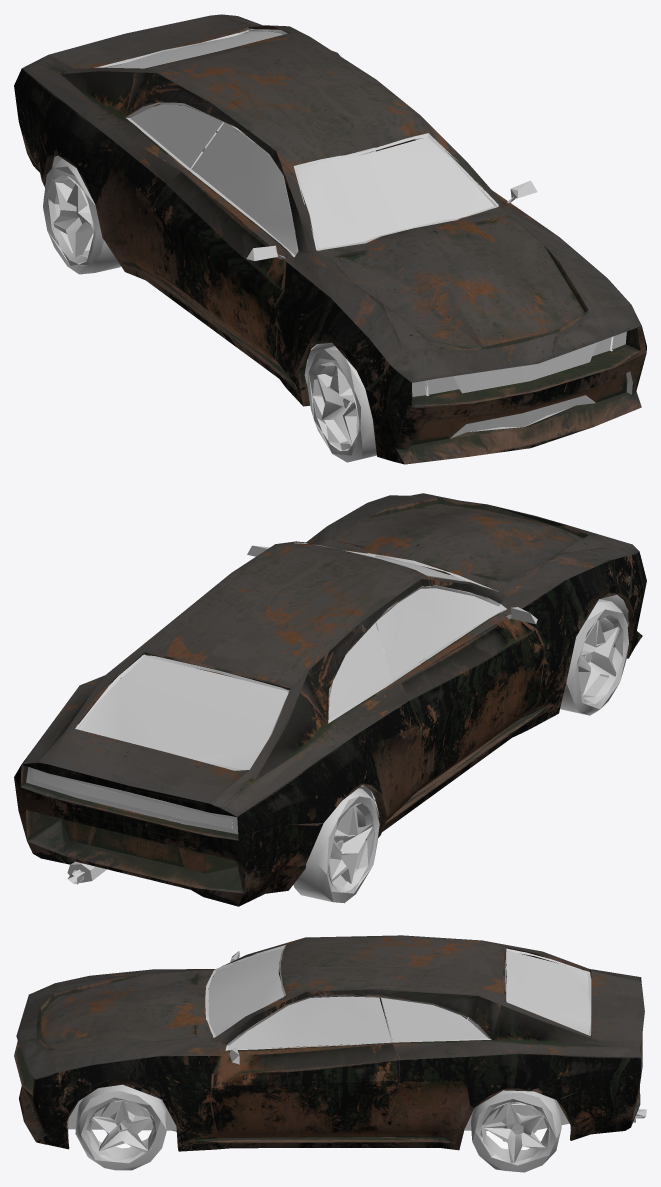
The model's file is car3-lod2.fbx.
3 views of the same model, one above another, from view 1: azimuth 30°, elevation 25°; view 2: azimuth 150°, elevation 25°; view 3: azimuth 270°, elevation 25° (orthographic). The views are drawn at different scales.
Visible parts, largest first — view 1: car3-lod2; view 2: car3-lod2; view 3: car3-lod2.
Part boxes in pixels (x1,y1,x2,y2): car3-lod2: (14,14,646,464); car3-lod2: (14,493,646,906); car3-lod2: (14,935,646,1172).
Bounding box in the file's own units: 1.82 × 1.28 × 4.49.
